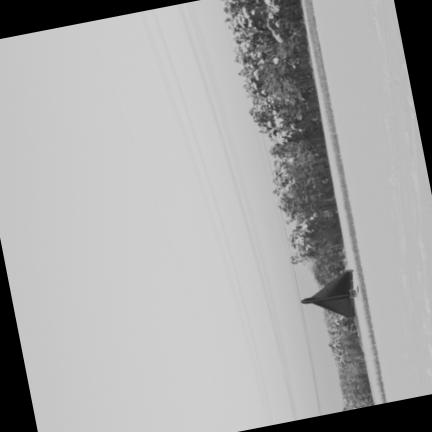Shahed: (301, 269, 358, 316)
